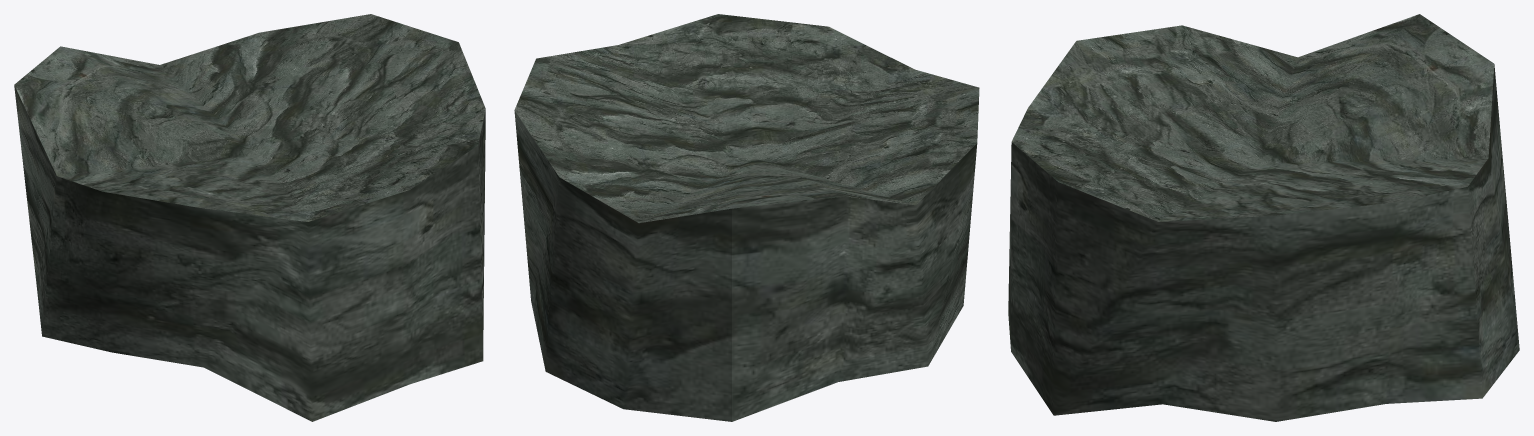
Rendered from rock_5.glb.
The picture shows the model from 3 angles, left to right: view 1: azimuth 30°, elevation 25°; view 2: azimuth 150°, elevation 25°; view 3: azimuth 270°, elevation 25°; orthographic projection. The views are drawn at different scales.
Parts seen in each view (by area): view 1: 5-512 (×2); view 2: 5-512 (×2); view 3: 5-512 (×2).
Part boxes in pixels (x1,y1,x2,y2): 5-512 (×2): [14, 14, 485, 421]; 5-512 (×2): [514, 14, 979, 421]; 5-512 (×2): [1008, 14, 1519, 421].
Size of the model in its own units: 10.44 by 5.55 by 10.55.
1 material, 1 textured.
